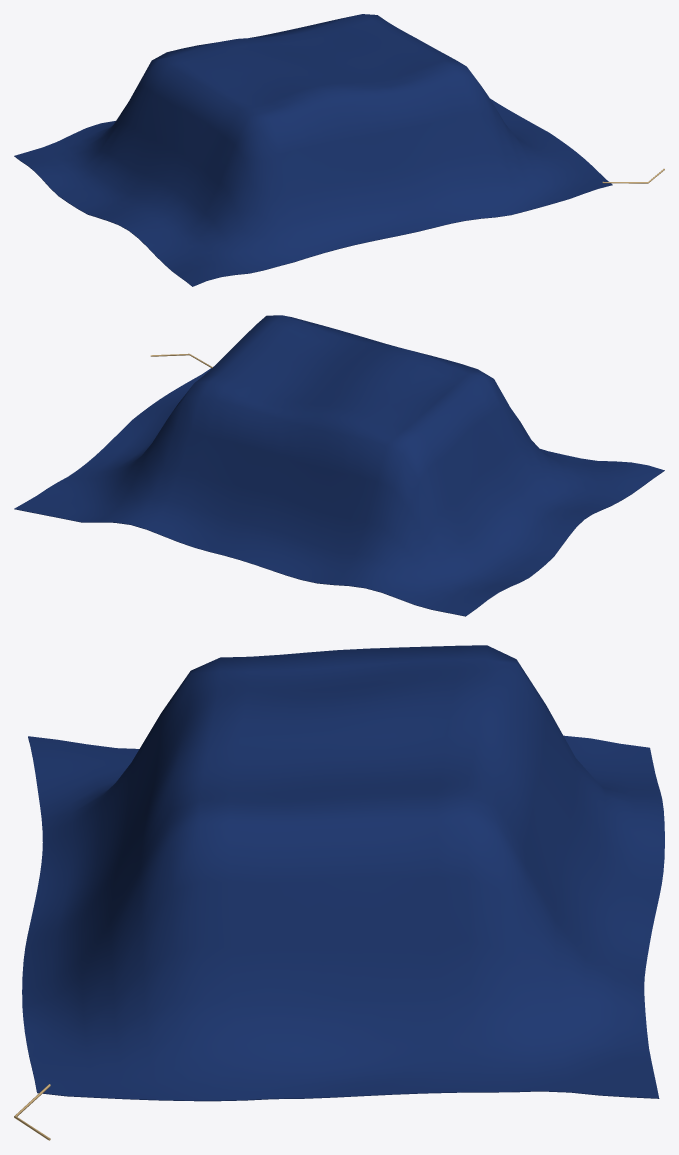
The model's file is tarp.glb.
The picture shows the model from 3 angles, top to bottom: view 1: azimuth 30°, elevation 25°; view 2: azimuth 150°, elevation 25°; view 3: azimuth 270°, elevation 25°; orthographic projection. The views are drawn at different scales.
Parts seen in each view (by area): view 1: tarp; view 2: tarp; view 3: tarp.
Boxes of the visible parts, x1,y1,x2,y2 form: tarp: (14,14,664,286); tarp: (14,315,664,616); tarp: (14,645,664,1140).
Size of the model in its own units: 2.73 by 0.6146 by 1.88.
